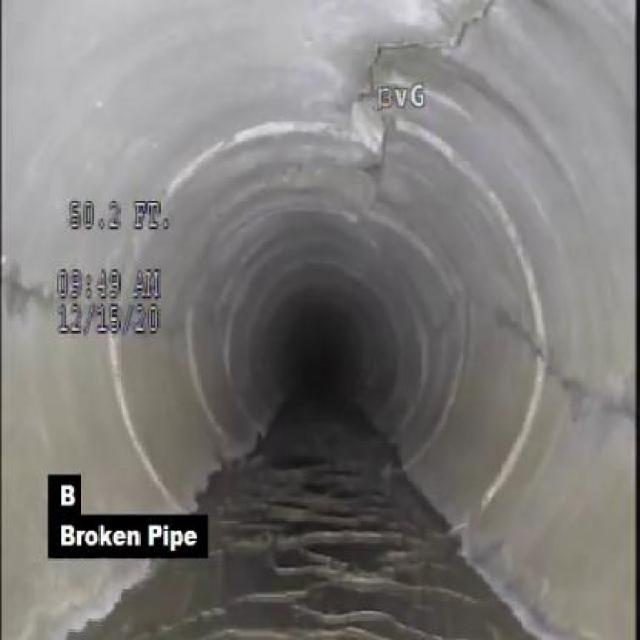Buckling: (332, 58, 408, 197)
